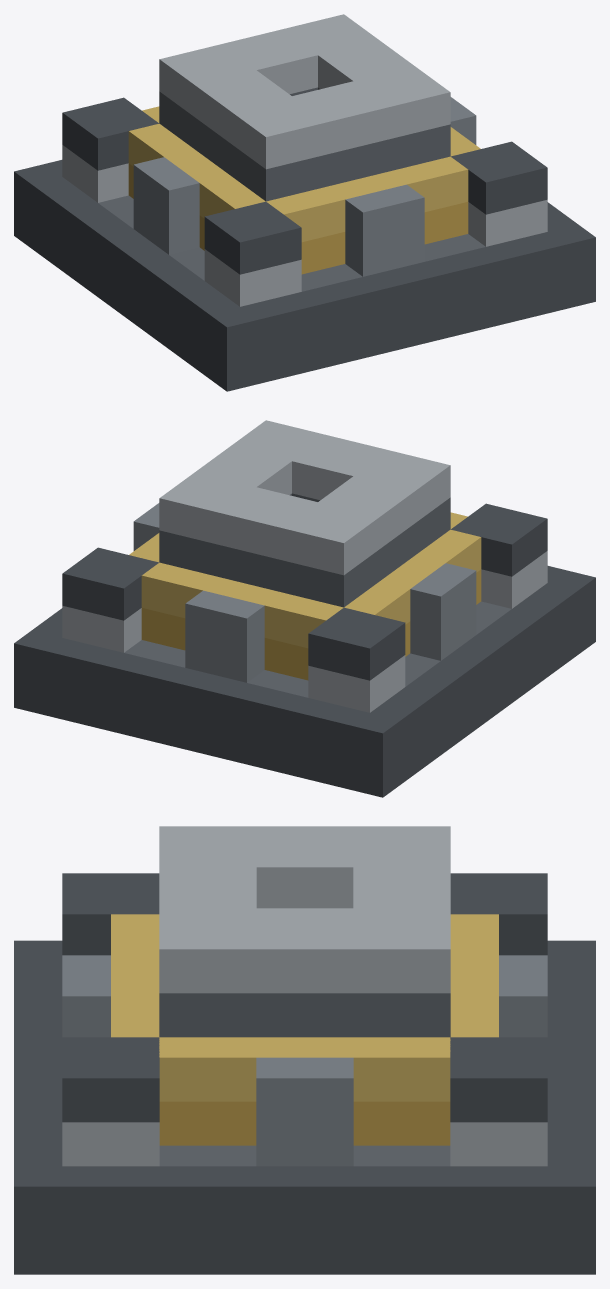
File: mount.glb
3 renders of one model, top to bottom at view 1: azimuth 30°, elevation 25°; view 2: azimuth 150°, elevation 25°; view 3: azimuth 270°, elevation 25°, orthographic. The views are drawn at different scales.
Bounding box in the file's own units: 12 × 6 × 12.
